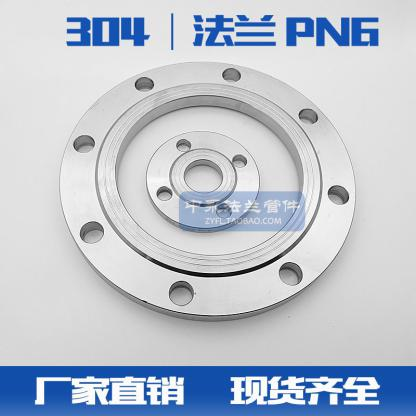FOD: (55, 52, 358, 329)
